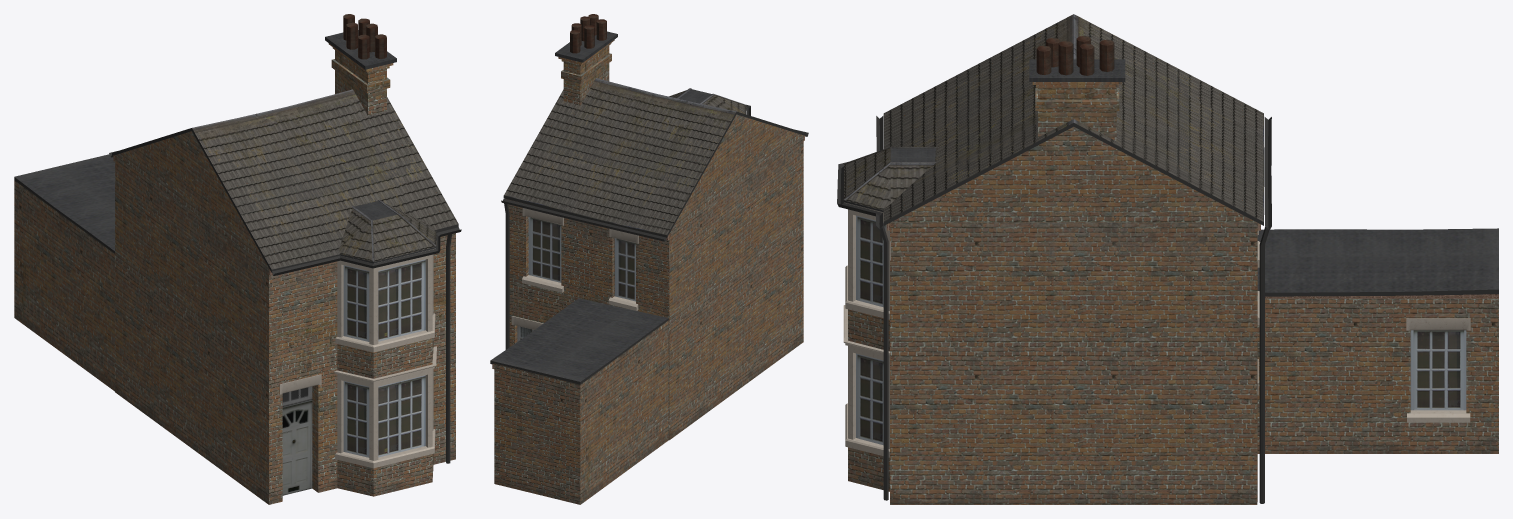
The model's file is ukterracedvictorian10.FBX.
3 views of the same model, side by side, from view 1: azimuth 30°, elevation 25°; view 2: azimuth 150°, elevation 25°; view 3: azimuth 270°, elevation 25° (orthographic). The views are drawn at different scales.
Visible parts, largest first — view 1: Object003; view 2: Object003; view 3: Object003.
Part boxes in pixels (bbox=[...]): Object003: bbox=[14, 14, 461, 504]; Object003: bbox=[490, 14, 808, 504]; Object003: bbox=[837, 14, 1498, 504].
Bounding box in the file's own units: 560 × 1093 × 1441.
